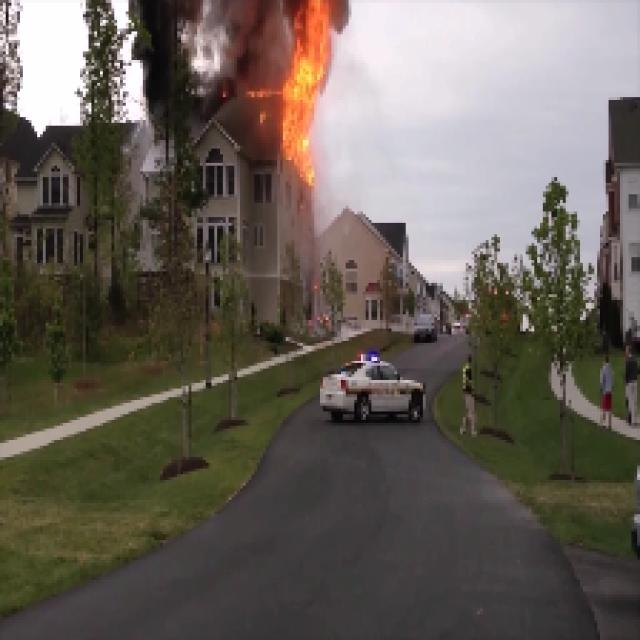fire: (282, 0, 333, 171)
smoke: (141, 3, 271, 91)
